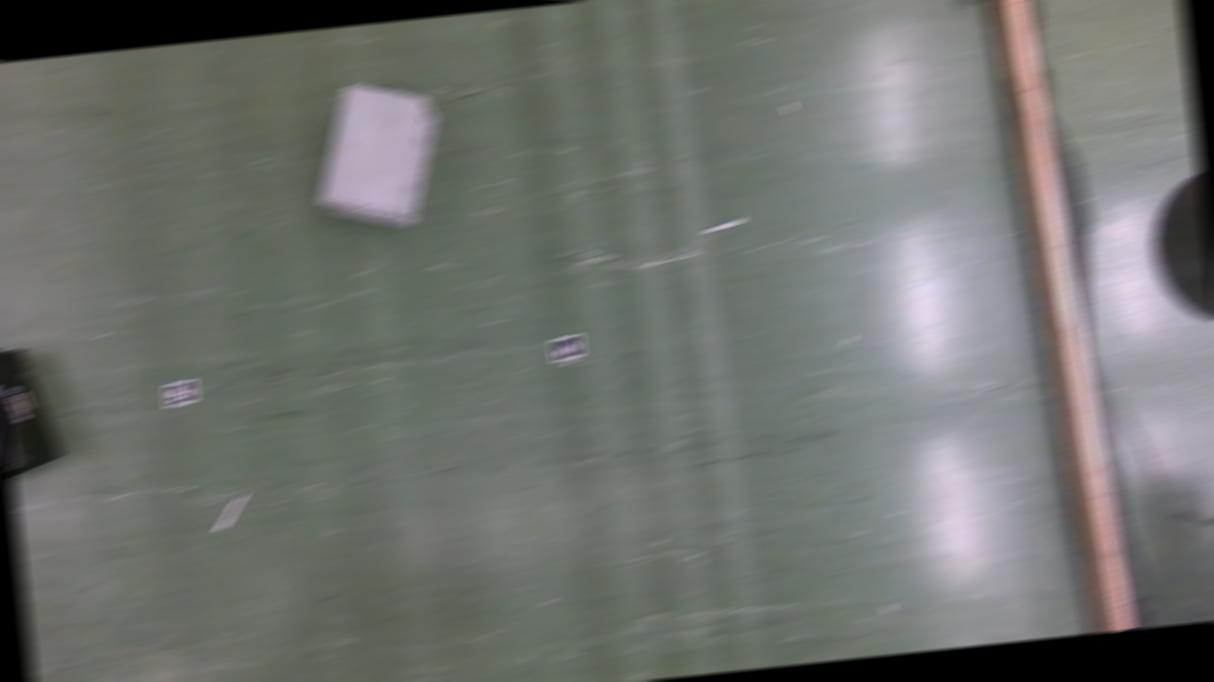probes: (212, 494, 249, 530), (702, 217, 742, 233)
rako: (307, 74, 446, 235), (0, 340, 64, 483)
